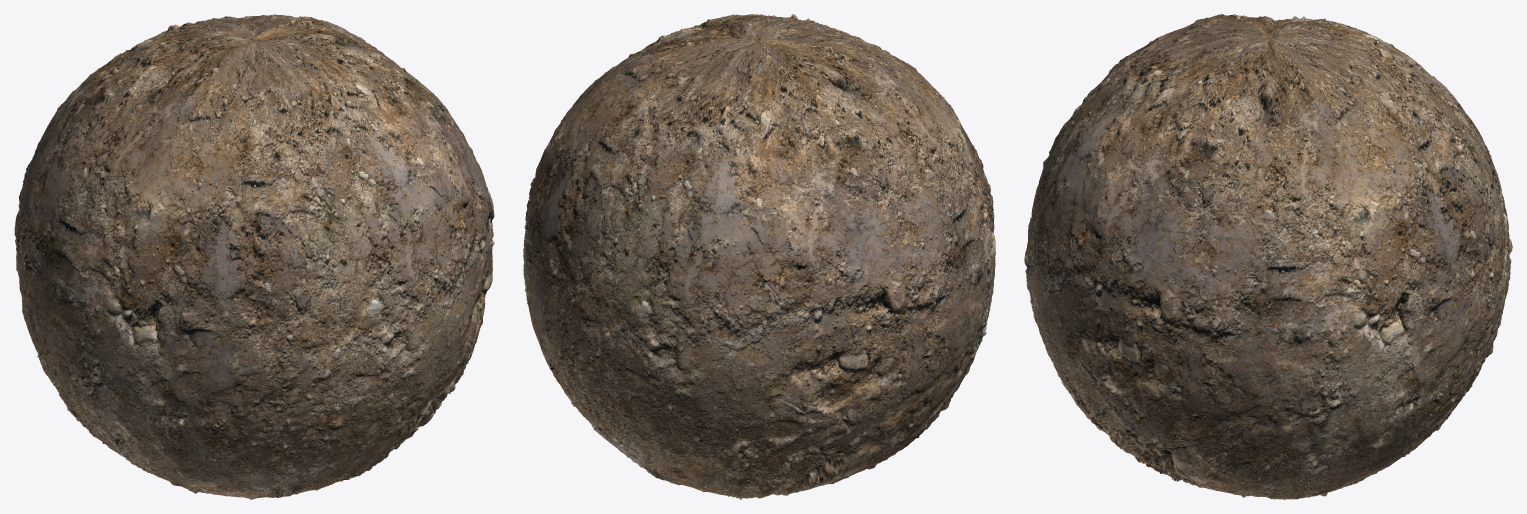
File: rocks_ground_08_2k.gltf
3 views of the same model, side by side, from view 1: azimuth 30°, elevation 25°; view 2: azimuth 150°, elevation 25°; view 3: azimuth 270°, elevation 25° (orthographic).
Visible parts, largest first — view 1: sphere_gltf; view 2: sphere_gltf; view 3: sphere_gltf.
Boxes of the visible parts, x1,y1,x2,y2 form: sphere_gltf: [14, 14, 494, 499]; sphere_gltf: [523, 14, 995, 499]; sphere_gltf: [1024, 14, 1512, 499].
Bounding box in the file's own units: 3 × 3.05 × 3.04.
1 material, 1 textured.
